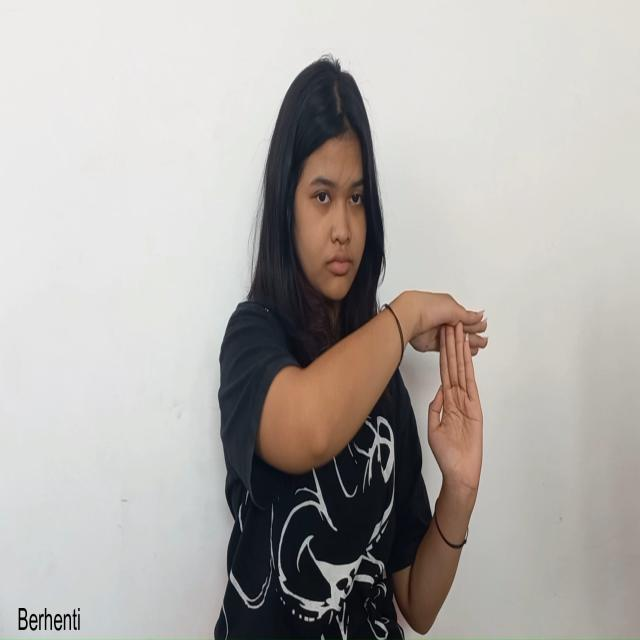Berhenti -BISINDO-: (398, 285, 490, 511)
